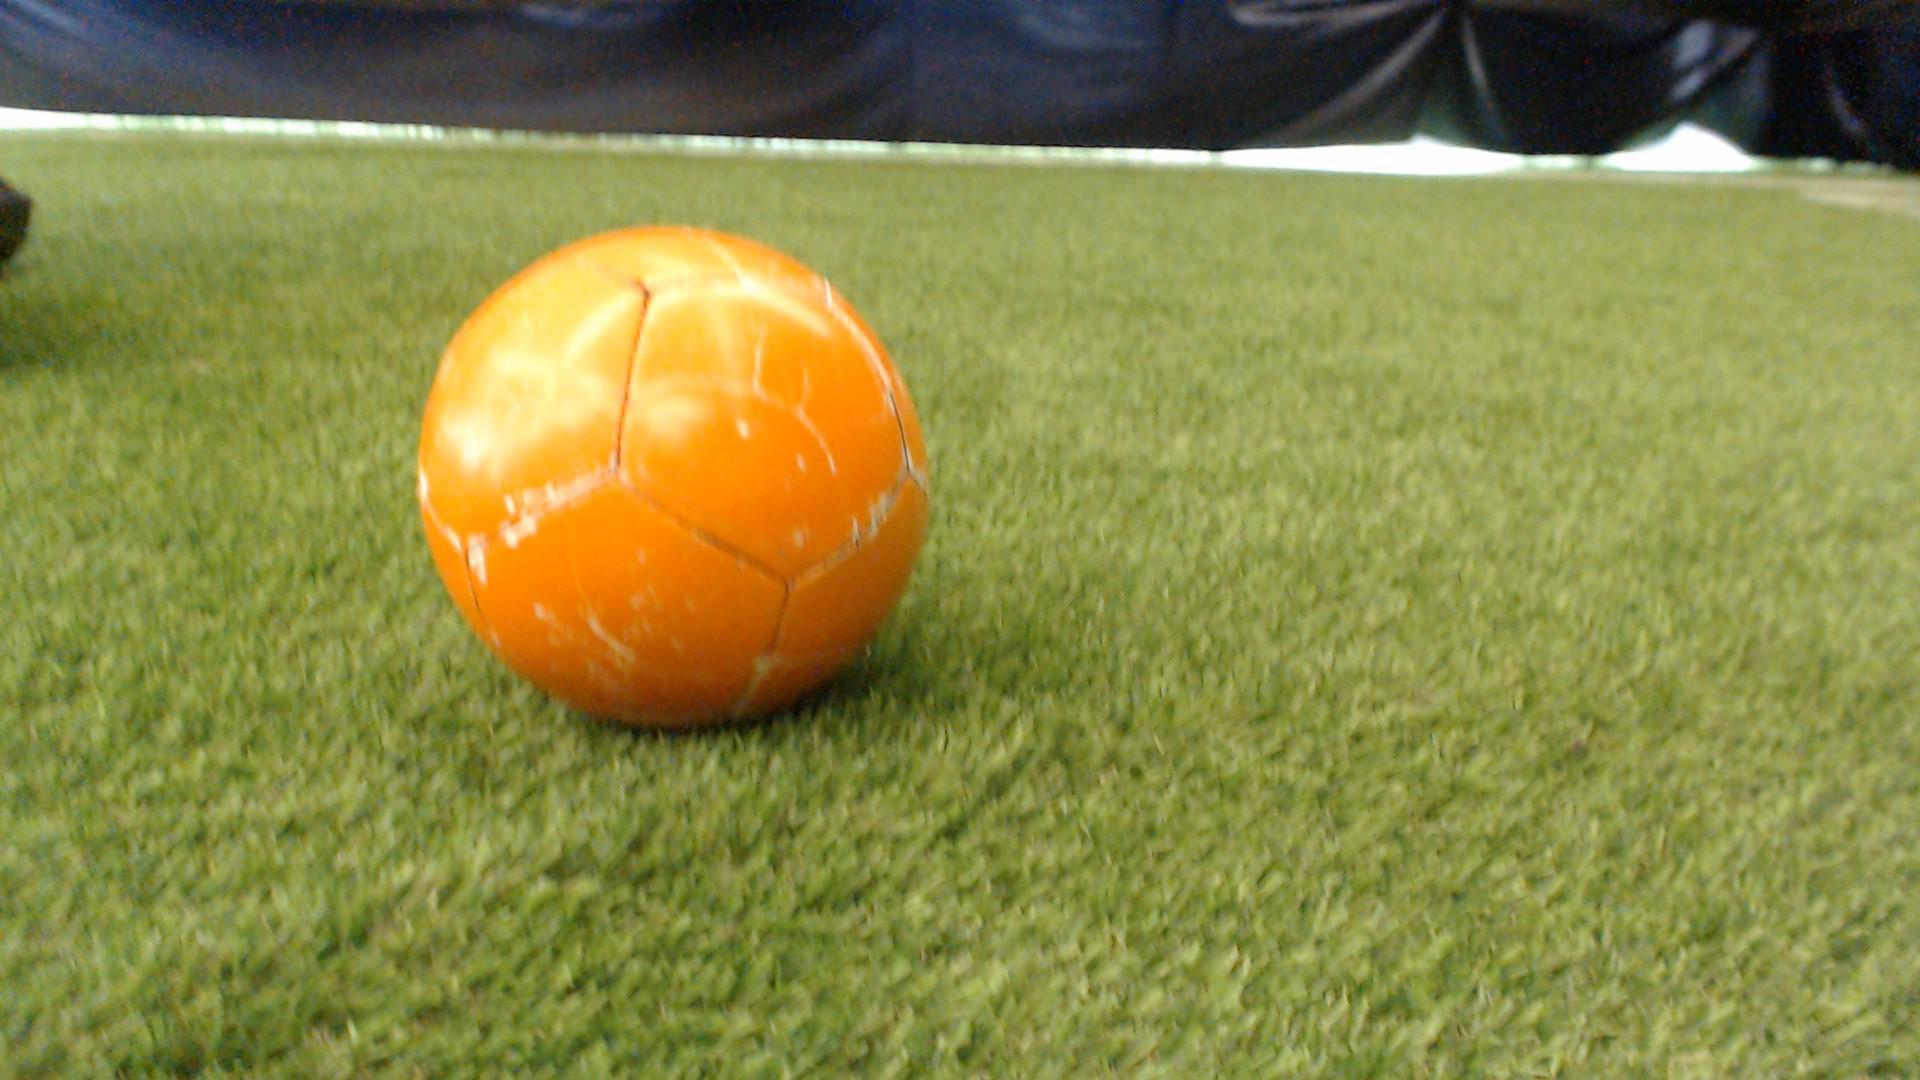bola: (385, 215, 959, 744)
